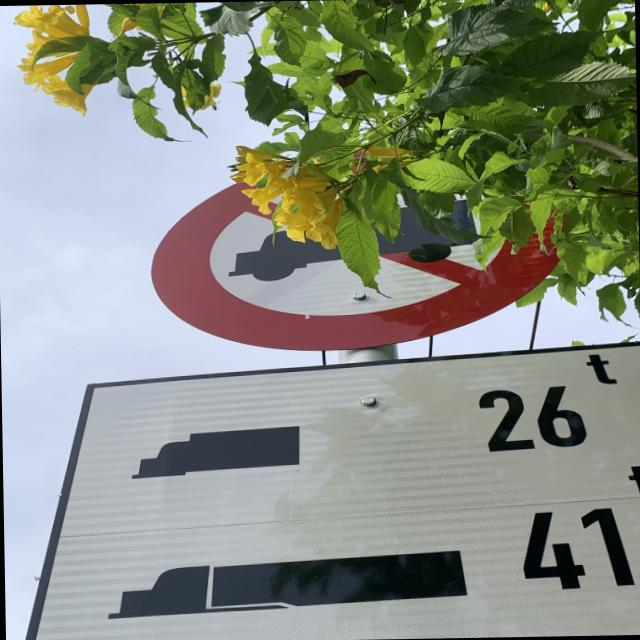Cam_Xe_Tai: (148, 144, 582, 352)
